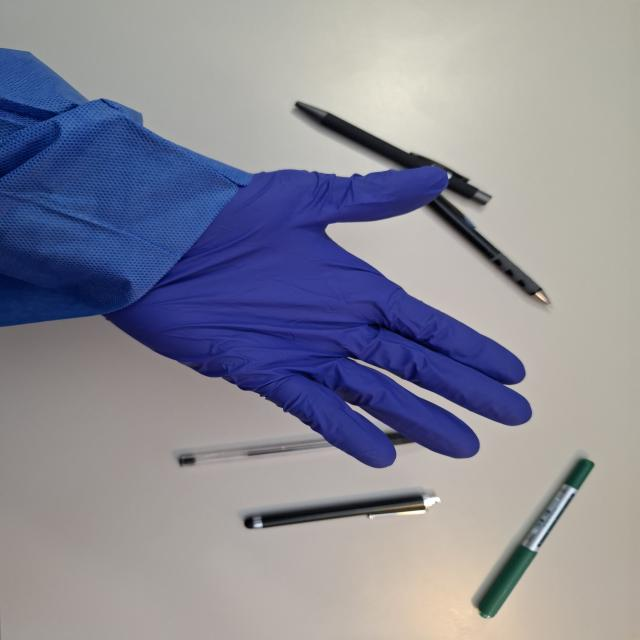glove_on: (100, 162, 536, 472)
